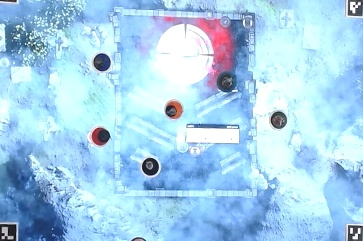black: (140, 155, 163, 178)
blue: (92, 52, 115, 75)
brown_turquoise: (216, 70, 240, 93)
green: (270, 110, 293, 133)
orange: (161, 99, 184, 122)
red: (90, 126, 113, 149)
